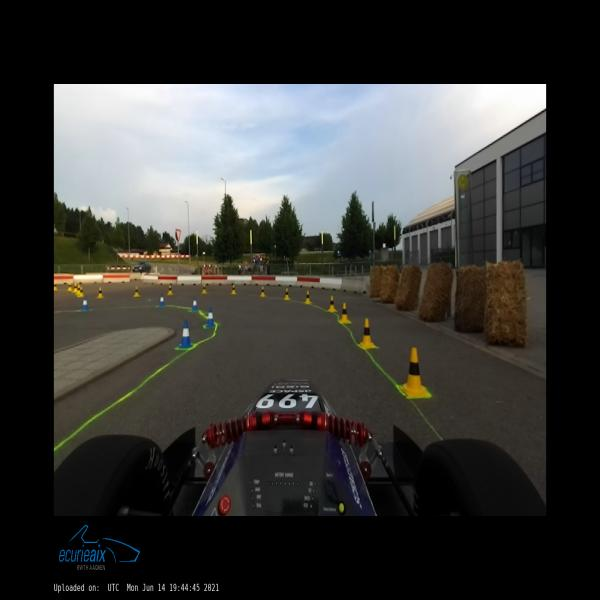blue_cone: (179, 321, 193, 347), (205, 307, 216, 327), (81, 296, 88, 311), (191, 298, 198, 312), (159, 294, 165, 306)
yellow_cone: (400, 347, 428, 397), (360, 318, 375, 348), (340, 303, 349, 322), (328, 296, 336, 311), (284, 288, 290, 300), (305, 291, 311, 303), (79, 287, 84, 297), (98, 286, 102, 298), (231, 285, 236, 294), (134, 287, 139, 296), (168, 285, 172, 295), (202, 284, 206, 293), (260, 287, 264, 296), (73, 283, 77, 292), (68, 282, 72, 290), (77, 285, 80, 295), (54, 282, 57, 290)
